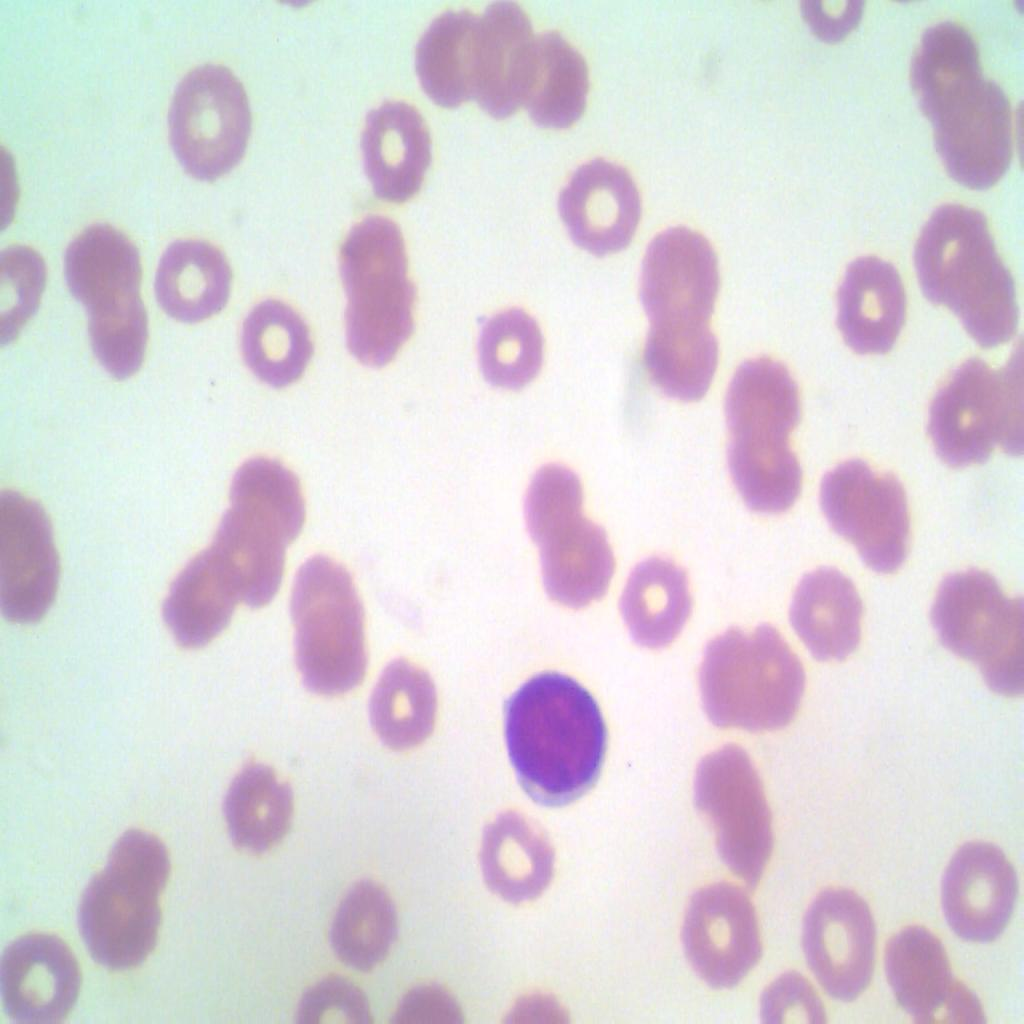Eritrosit: (284, 554, 381, 698), (789, 871, 883, 1008), (166, 50, 264, 181), (686, 740, 782, 870), (695, 614, 804, 728), (671, 872, 769, 994), (819, 458, 918, 577), (926, 840, 1024, 959), (818, 252, 916, 362), (919, 372, 1019, 477), (931, 562, 1023, 675), (548, 150, 646, 254), (629, 298, 718, 412), (156, 550, 250, 657), (901, 12, 984, 131), (615, 547, 698, 664), (933, 88, 1023, 195), (466, 0, 535, 138), (322, 865, 411, 971), (474, 798, 559, 908), (346, 101, 432, 208), (76, 878, 166, 980), (218, 440, 312, 536), (888, 914, 970, 1023), (404, 10, 495, 108), (913, 192, 990, 307), (61, 216, 144, 321), (233, 292, 315, 398), (728, 421, 808, 528), (718, 340, 799, 444), (518, 32, 594, 141), (471, 304, 558, 399), (0, 497, 70, 615), (212, 758, 298, 852), (786, 564, 864, 666), (214, 501, 288, 604), (626, 225, 710, 315), (335, 284, 421, 370), (542, 522, 619, 618), (155, 234, 233, 328), (8, 930, 86, 1023), (946, 258, 1024, 351), (364, 660, 441, 748), (0, 234, 58, 344), (88, 291, 149, 394), (334, 215, 400, 304), (518, 464, 586, 542), (102, 831, 168, 908)
Limfosit: (490, 661, 614, 812)
